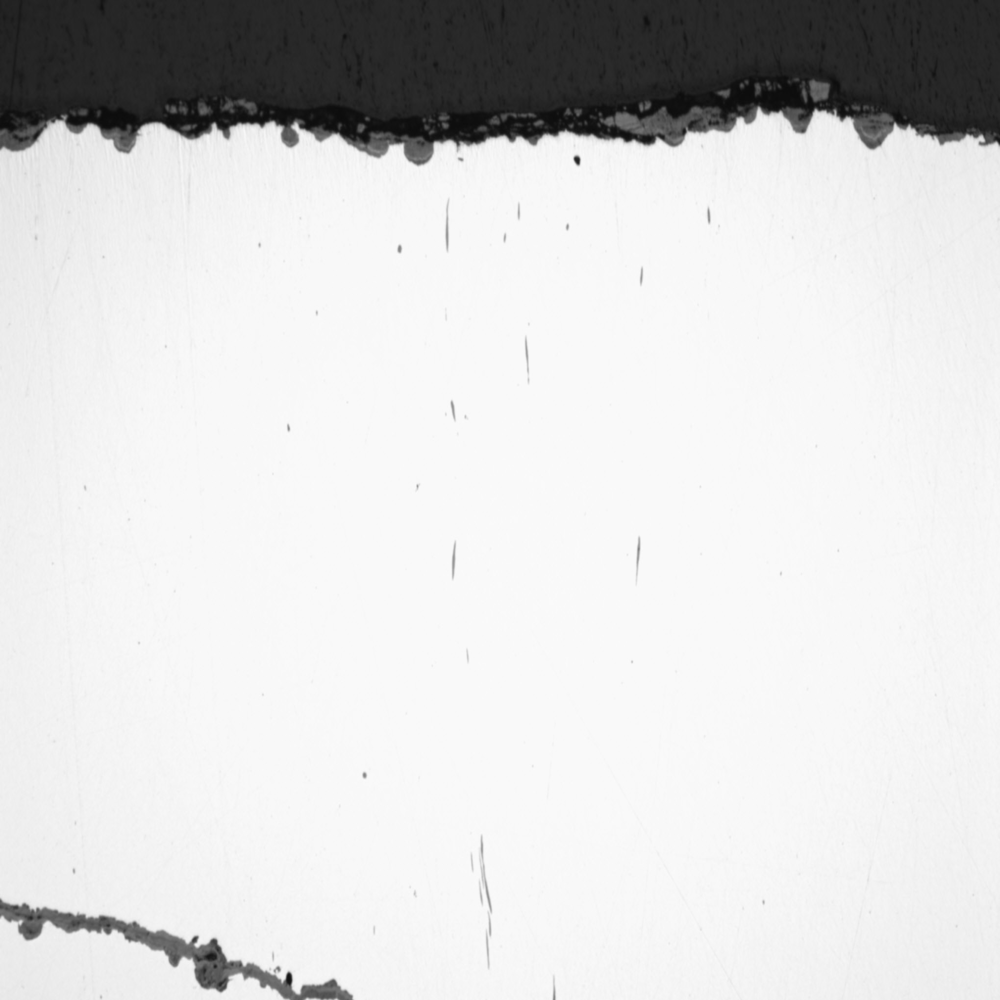crack: (19, 866, 358, 1000)
